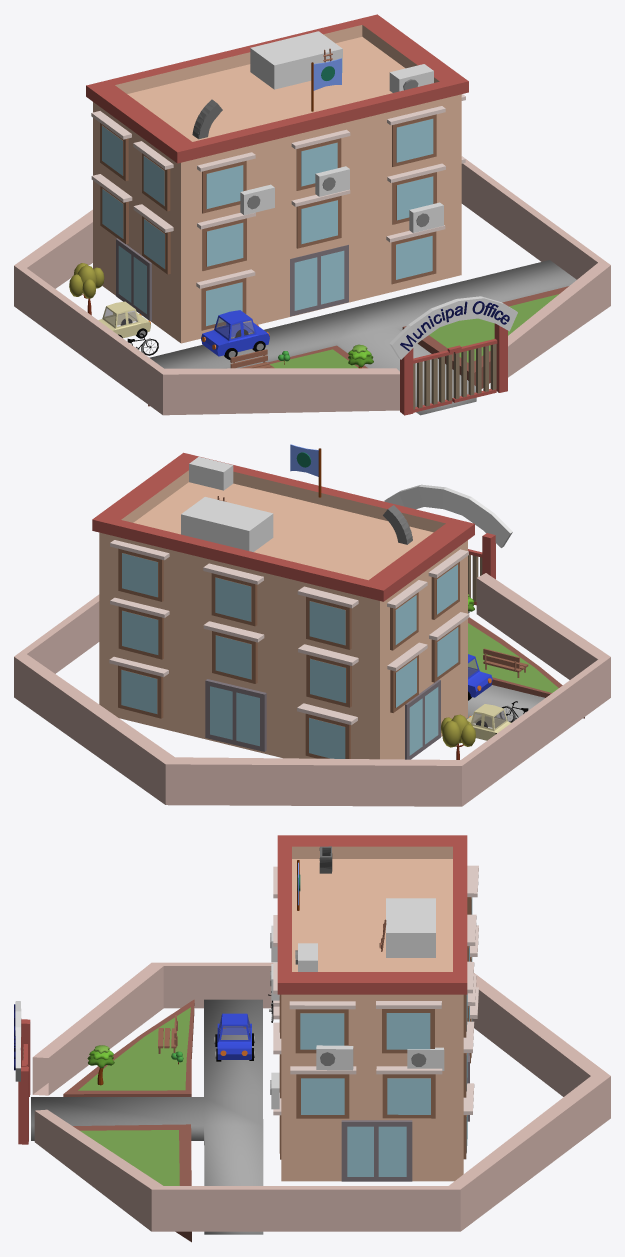
File: Municipal Single .fbx
The picture shows the model from 3 angles, top to bottom: view 1: azimuth 30°, elevation 25°; view 2: azimuth 150°, elevation 25°; view 3: azimuth 270°, elevation 25°; orthographic projection. The views are drawn at different scales.
Visible parts, largest first — view 1: building, wall, path, Gate, garden1, Car1, garden2, Car.002, Tree3, Flag, Bench; view 2: building, wall, Gate, garden2, path, Car.002, Tree3, Flag, Car1, Bench; view 3: building, wall, path, garden2, garden1, Gate, Car1, Tree1.
Boxes of the visible parts, x1,y1,x2,y2 form: building: [86, 14, 468, 343]; wall: [14, 156, 610, 415]; path: [149, 260, 576, 415]; Gate: [389, 296, 517, 415]; garden1: [402, 286, 568, 388]; Car1: [201, 310, 269, 359]; garden2: [148, 345, 367, 406]; Car.002: [98, 301, 150, 338]; Tree3: [69, 263, 104, 315]; Flag: [311, 58, 341, 111]; Bench: [230, 349, 274, 368]; building: [92, 452, 474, 759]; wall: [14, 573, 610, 806]; Gate: [384, 484, 512, 605]; garden2: [468, 617, 584, 718]; path: [466, 611, 544, 721]; Car.002: [467, 704, 511, 740]; Tree3: [440, 714, 475, 759]; Flag: [290, 444, 321, 497]; Car1: [468, 654, 492, 700]; Bench: [483, 648, 528, 677]; building: [270, 835, 478, 1181]; wall: [32, 962, 610, 1231]; path: [31, 999, 263, 1234]; garden2: [63, 999, 194, 1096]; garden1: [73, 1124, 191, 1242]; Gate: [14, 1001, 30, 1144]; Car1: [214, 1013, 254, 1061]; Tree1: [87, 1045, 114, 1085].
Size of the model in its own units: 137 by 75.16 by 152.
